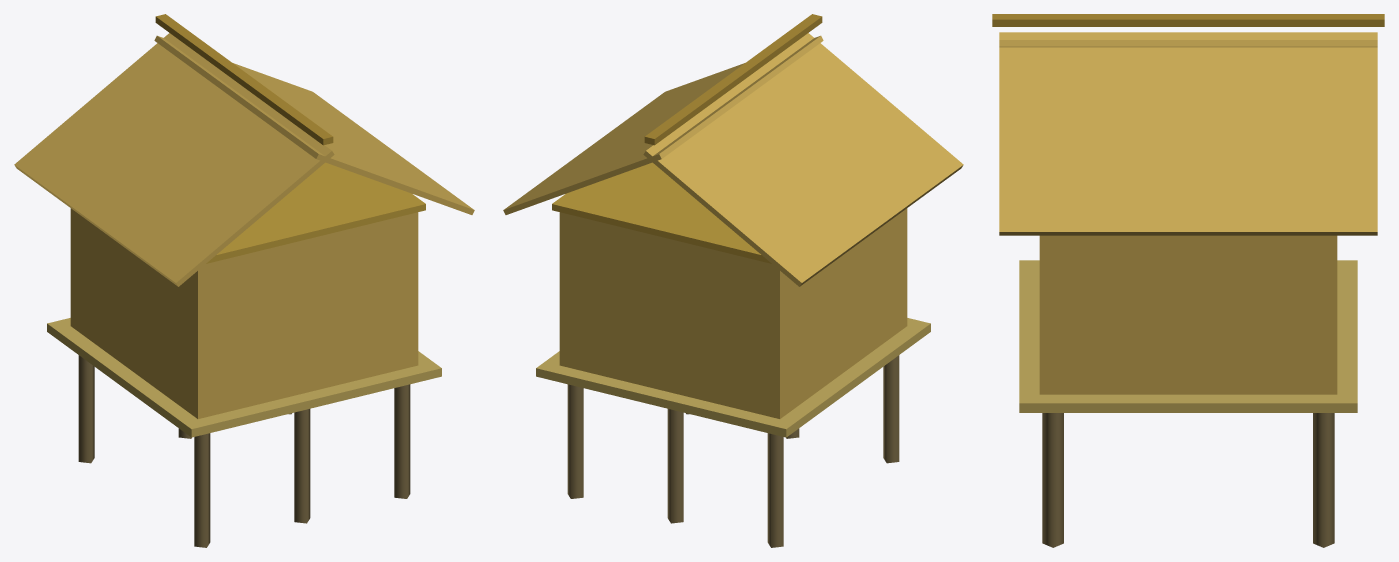
The model's file is rice-barn.glb.
The picture shows the model from 3 angles, left to right: view 1: azimuth 30°, elevation 25°; view 2: azimuth 150°, elevation 25°; view 3: azimuth 270°, elevation 25°; orthographic projection. The views are drawn at different scales.
Parts seen in each view (by area): view 1: Mesh_StorageBin, Mesh_RoofLeftPanel, Mesh_Lid, Mesh_RoofRightPanel, Mesh_Floor, Mesh_Ridge, Mesh_Stilt_3, Mesh_Stilt_4, Mesh_Stilt_5, Mesh_Stilt_0; view 2: Mesh_StorageBin, Mesh_RoofLeftPanel, Mesh_Lid, Mesh_RoofRightPanel, Mesh_Floor, Mesh_Ridge, Mesh_Stilt_0, Mesh_Stilt_1, Mesh_Stilt_2, Mesh_Stilt_3; view 3: Mesh_RoofRightPanel, Mesh_StorageBin, Mesh_Floor, Mesh_Ridge, Mesh_RoofLeftPanel, Mesh_Stilt_2, Mesh_Stilt_5.
Boxes of the visible parts, <box> form: Mesh_StorageBin: <box>70,208,418,418</box>; Mesh_RoofLeftPanel: <box>14,33,334,286</box>; Mesh_Lid: <box>206,162,425,263</box>; Mesh_RoofRightPanel: <box>154,35,474,214</box>; Mesh_Floor: <box>47,318,441,437</box>; Mesh_Ridge: <box>155,14,333,145</box>; Mesh_Stilt_3: <box>194,433,210,547</box>; Mesh_Stilt_4: <box>294,409,310,523</box>; Mesh_Stilt_5: <box>394,384,410,498</box>; Mesh_Stilt_0: <box>78,355,94,463</box>; Mesh_StorageBin: <box>559,208,907,418</box>; Mesh_RoofLeftPanel: <box>643,33,963,286</box>; Mesh_Lid: <box>552,162,771,263</box>; Mesh_RoofRightPanel: <box>503,35,823,214</box>; Mesh_Floor: <box>536,318,930,437</box>; Mesh_Ridge: <box>644,14,822,145</box>; Mesh_Stilt_0: <box>767,433,783,547</box>; Mesh_Stilt_1: <box>667,409,683,523</box>; Mesh_Stilt_2: <box>567,384,583,498</box>; Mesh_Stilt_3: <box>883,355,899,463</box>; Mesh_RoofRightPanel: <box>999,32,1377,235</box>; Mesh_StorageBin: <box>1039,235,1337,394</box>; Mesh_Floor: <box>1019,260,1357,412</box>; Mesh_Ridge: <box>992,14,1384,26</box>; Mesh_RoofLeftPanel: <box>999,40,1377,47</box>; Mesh_Stilt_2: <box>1313,413,1334,547</box>; Mesh_Stilt_5: <box>1042,413,1063,547</box>.
Bounding box in the file's own units: 2.98 × 3.83 × 2.9.
